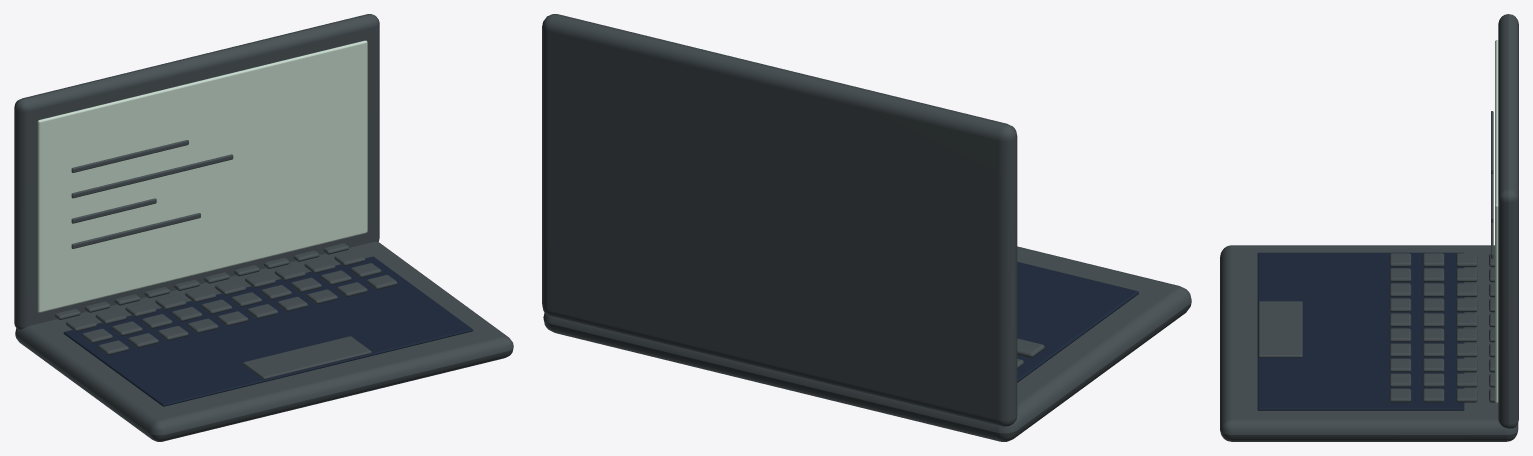
Rendered from laptop.glb.
3 views of the same model, side by side, from view 1: azimuth 30°, elevation 25°; view 2: azimuth 150°, elevation 25°; view 3: azimuth 270°, elevation 25° (orthographic). The views are drawn at different scales.
Parts seen in each view (by area): view 1: Screen, Keyboard deck, Laptop base, Laptop display, Trackpad, Code line.001, Code line.003, Code line, Code line.002; view 2: Laptop display, Laptop base, Keyboard deck; view 3: Keyboard deck, Laptop base, Laptop display, Trackpad, Screen, Key.009, Key.002, Key.007, Key.005, Key.018, Key.004, Key.008 (+23 smaller).
Part boxes in pixels (<box>): Screen: <box>37,40,367,312</box>; Keyboard deck: <box>63,256,473,406</box>; Laptop base: <box>15,241,513,441</box>; Laptop display: <box>14,14,379,329</box>; Trackpad: <box>242,336,371,379</box>; Code line.001: <box>71,154,233,198</box>; Code line.003: <box>71,213,200,248</box>; Code line: <box>71,140,188,172</box>; Code line.002: <box>71,198,156,223</box>; Laptop display: <box>542,14,1017,426</box>; Laptop base: <box>543,246,1191,441</box>; Keyboard deck: <box>1017,262,1138,382</box>; Keyboard deck: <box>1257,252,1464,410</box>; Laptop base: <box>1220,245,1518,441</box>; Laptop display: <box>1498,14,1518,428</box>; Trackpad: <box>1258,301,1302,357</box>; Screen: <box>1495,40,1498,402</box>; Key.009: <box>1389,388,1411,402</box>; Key.002: <box>1389,283,1411,297</box>; Key.007: <box>1389,358,1411,372</box>; Key.005: <box>1389,328,1411,342</box>; Key.018: <box>1422,373,1444,387</box>; Key.004: <box>1389,313,1411,327</box>; Key.008: <box>1389,373,1411,387</box>.
Bounding box in the file's own units: 0.9 × 0.579 × 0.6215.
